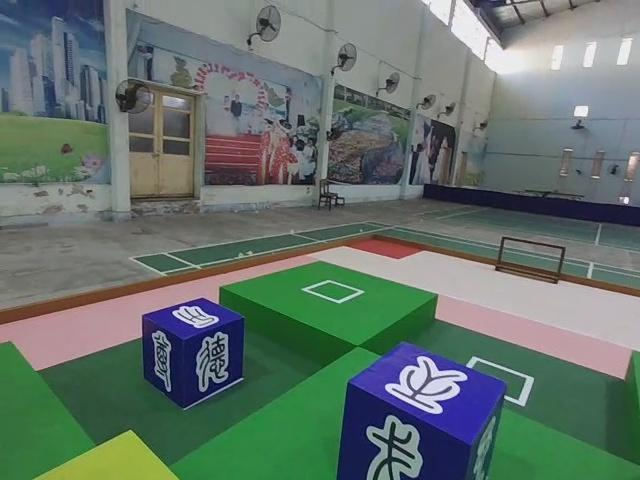R2 Fake Blue: (341, 345, 505, 480), (144, 301, 247, 413)
